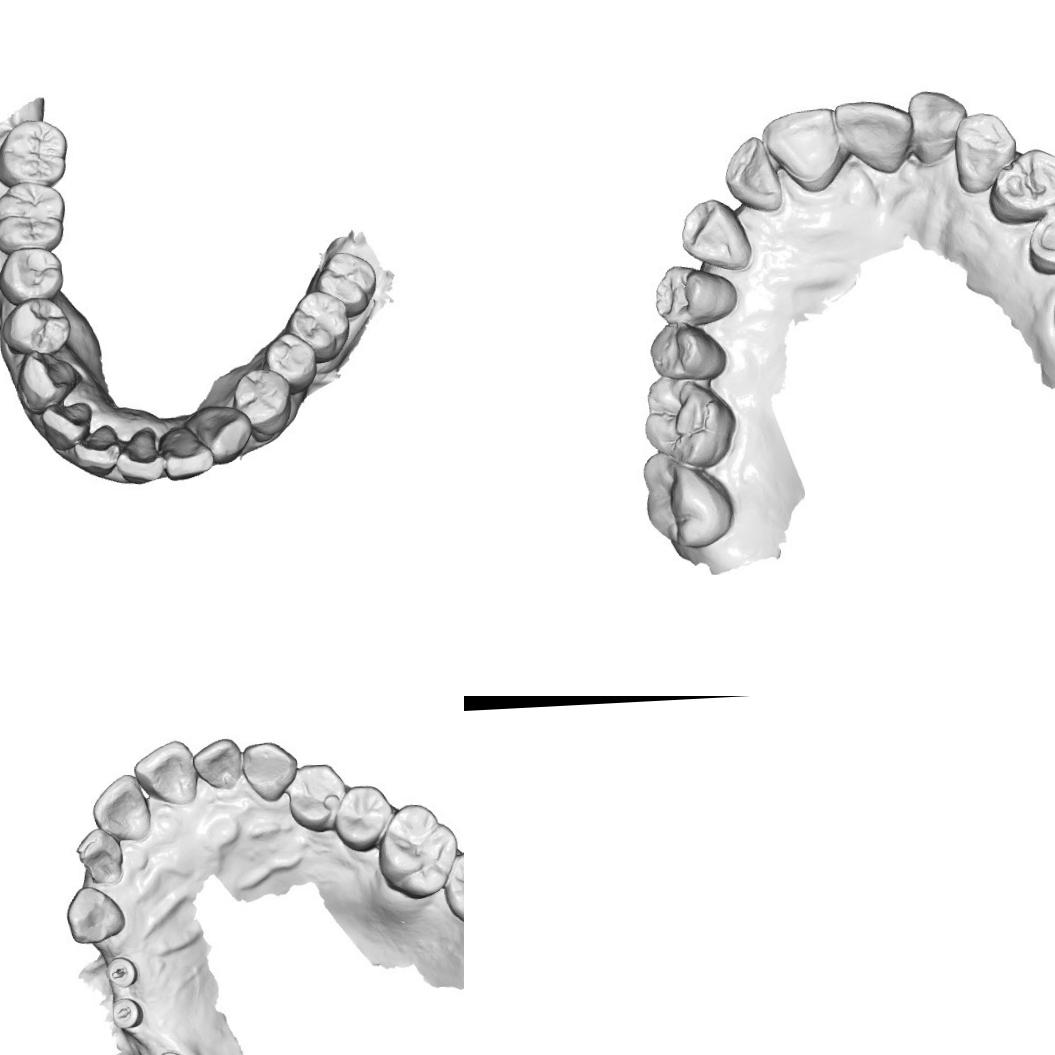canine: (952, 112, 1018, 188), (682, 199, 750, 266), (62, 880, 128, 946), (239, 736, 302, 803), (15, 348, 76, 409), (196, 403, 252, 465)
implant_minus: (109, 994, 144, 1032), (104, 954, 140, 988)
incisor: (765, 104, 845, 188), (832, 97, 914, 174), (89, 771, 157, 847), (723, 134, 786, 215), (130, 737, 198, 808), (908, 88, 966, 164), (72, 825, 131, 886), (191, 732, 245, 793), (118, 420, 166, 486), (38, 397, 94, 453), (70, 424, 123, 478), (162, 420, 209, 478)
molar: (635, 452, 732, 554), (639, 372, 743, 466), (374, 799, 463, 902), (0, 117, 67, 188), (0, 179, 67, 248), (290, 288, 356, 356), (316, 249, 376, 309), (438, 845, 464, 931)
premolar: (652, 257, 743, 327), (985, 145, 1055, 224), (646, 319, 727, 383), (330, 780, 394, 854), (283, 761, 347, 830), (0, 295, 71, 357), (229, 367, 290, 438), (0, 243, 64, 304), (262, 330, 318, 391), (1016, 199, 1055, 274)
